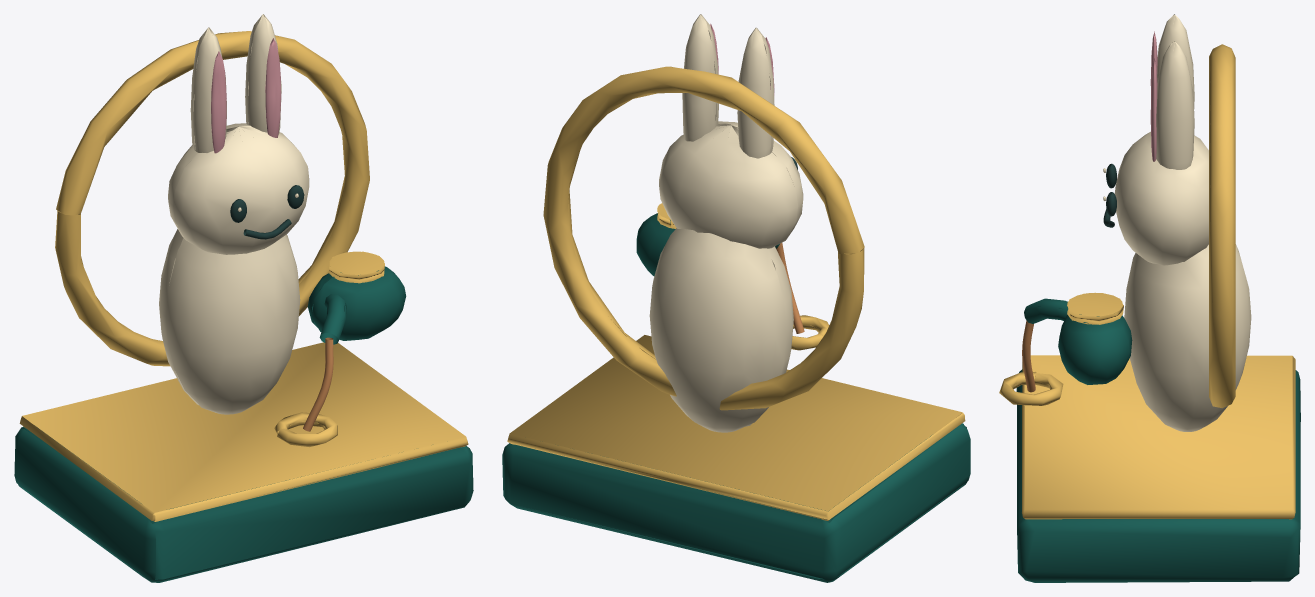
The picture shows the model from 3 angles, left to right: view 1: azimuth 30°, elevation 25°; view 2: azimuth 150°, elevation 25°; view 3: azimuth 270°, elevation 25°; orthographic projection. The views are drawn at different scales.
Parts seen in each view (by area): view 1: Brass welt, Tea rabbit, Jade footing, Ear glaze, Bright eye, Tea flowing; view 2: Brass welt, Tea rabbit, Jade footing; view 3: Brass welt, Tea rabbit, Jade footing, Ear glaze, Tea flowing, Bright eye.
Part boxes in pixels (<box>): Brass welt: <box>19,31,468,521</box>; Tea rabbit: <box>159,14,309,414</box>; Jade footing: <box>14,266,473,582</box>; Ear glaze: <box>211,38,281,153</box>; Bright eye: <box>230,185,304,239</box>; Tea flowing: <box>303,337,333,431</box>; Brass welt: <box>507,66,965,520</box>; Tea rabbit: <box>649,14,803,432</box>; Jade footing: <box>502,213,970,582</box>; Brass welt: <box>999,44,1295,519</box>; Tea rabbit: <box>1103,14,1251,431</box>; Jade footing: <box>1016,298,1300,582</box>; Ear glaze: <box>1150,31,1157,161</box>; Tea flowing: <box>1022,320,1035,392</box>; Bright eye: <box>1103,163,1116,227</box>.
Size of the model in its own units: 0.7264 by 0.9967 by 0.5697.
